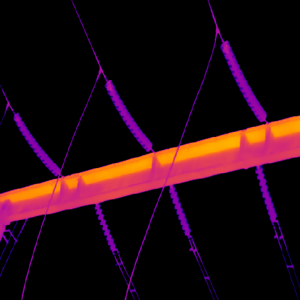insulator: (219, 38, 267, 123), (105, 78, 153, 152), (13, 110, 61, 176), (255, 161, 277, 221), (167, 183, 191, 236), (93, 202, 115, 251)
